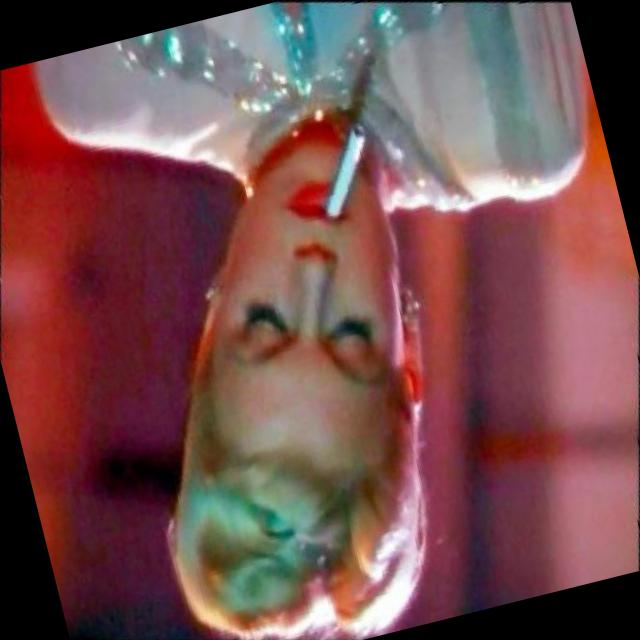cigarette: (301, 107, 392, 225)
